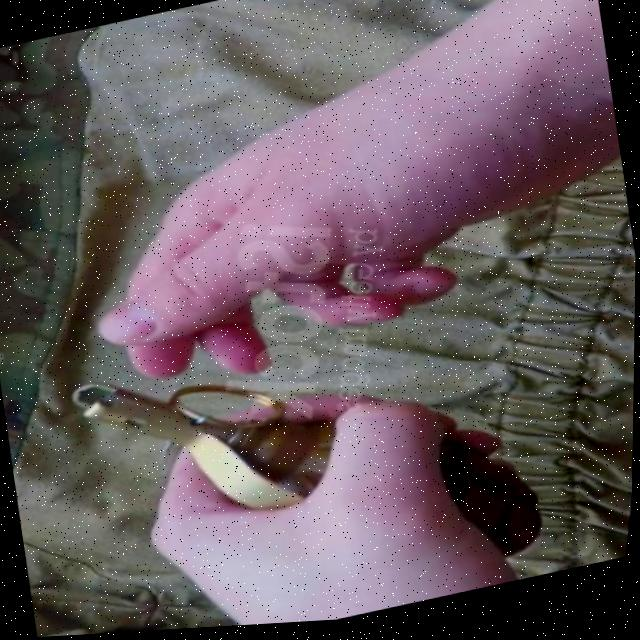grenade: (34, 288, 582, 638)
